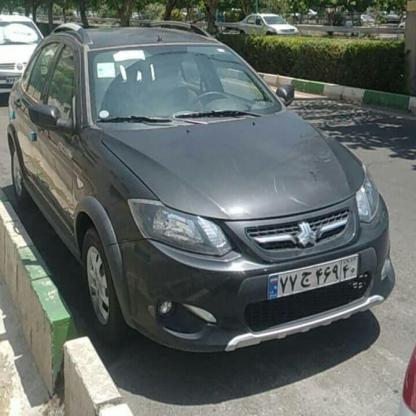Car: (1, 27, 377, 333), (0, 6, 42, 90), (235, 9, 299, 37)
